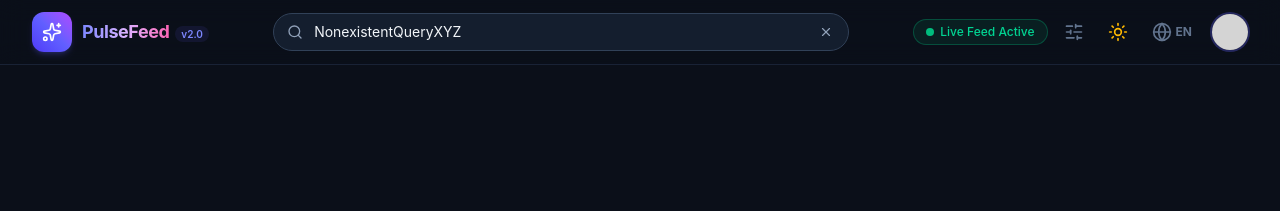
Test: Navbar Search Integration › should display empty message when query returns no matches
This screenshot has width=1280, height=211.
Focus the field named "Search content" at (561, 32), box [273,13,849,51]
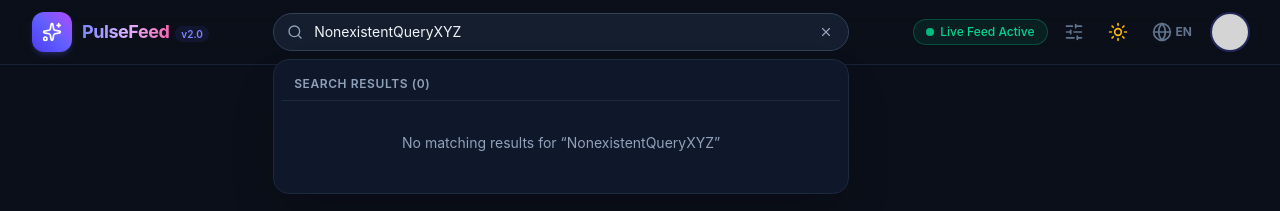
expect the text "No matching results for “NonexistentQueryXYZ”" is shown: met, box [402,134,720,151]
